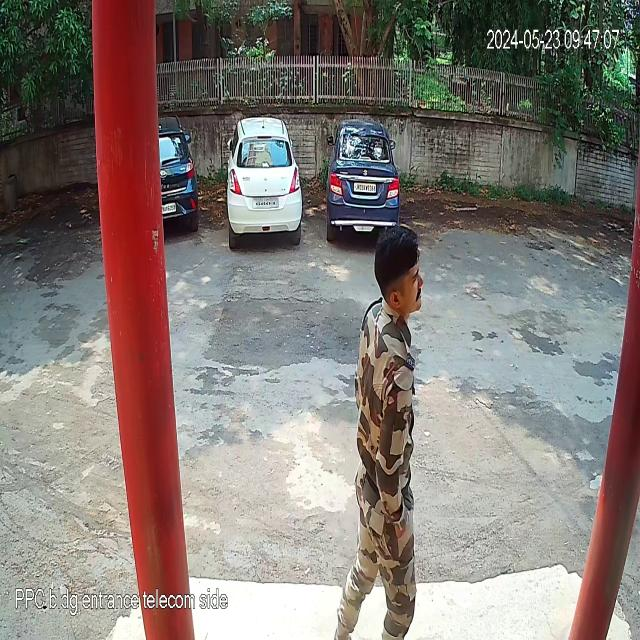no-safety-helmet: (364, 219, 433, 324)
person: (331, 224, 427, 637)
